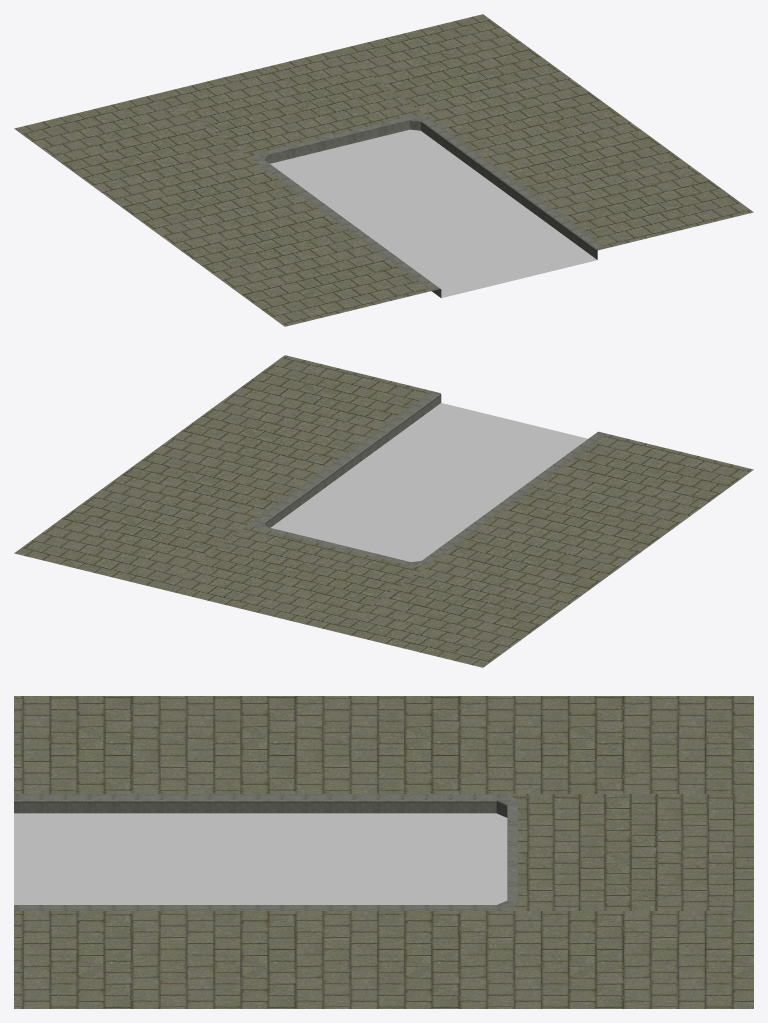
The model's file is CT_Road_Lane_End_01.fbx.
3 views of the same model, one above another, from view 1: azimuth 30°, elevation 25°; view 2: azimuth 150°, elevation 25°; view 3: azimuth 270°, elevation 25° (orthographic). The views are drawn at different scales.
Visible parts, largest first — view 1: CT_Road_Lane_End_01; view 2: CT_Road_Lane_End_01; view 3: CT_Road_Lane_End_01.
Boxes of the visible parts, x1,y1,x2,y2 form: CT_Road_Lane_End_01: [14, 14, 753, 326]; CT_Road_Lane_End_01: [14, 355, 753, 667]; CT_Road_Lane_End_01: [14, 696, 753, 1008].
Bounding box in the file's own units: 768 × 15 × 768.
